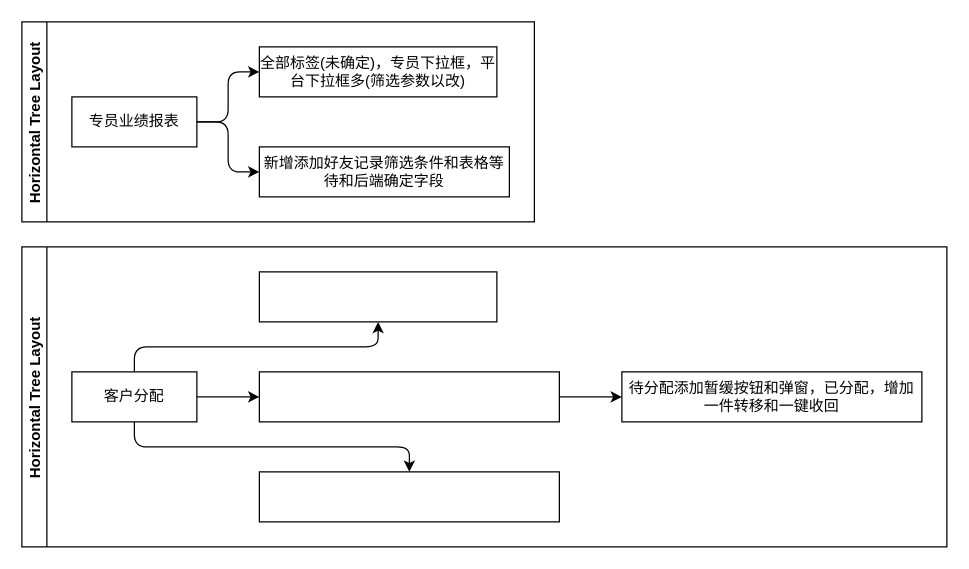
This 969x569 diagram has some shape labels left out. The box of each missing label's shape, as (x1, y1, x2, y2) in pixels:
待分配和已分配导出，和最后导入时间查询(前端完成): (258, 371, 559, 422)
待分配页面同步sass会员页面和参数字段完成: (258, 271, 497, 322)
新增暂缓池页面，查询条件，和彻底删除，导出释放功能: (258, 471, 559, 522)
